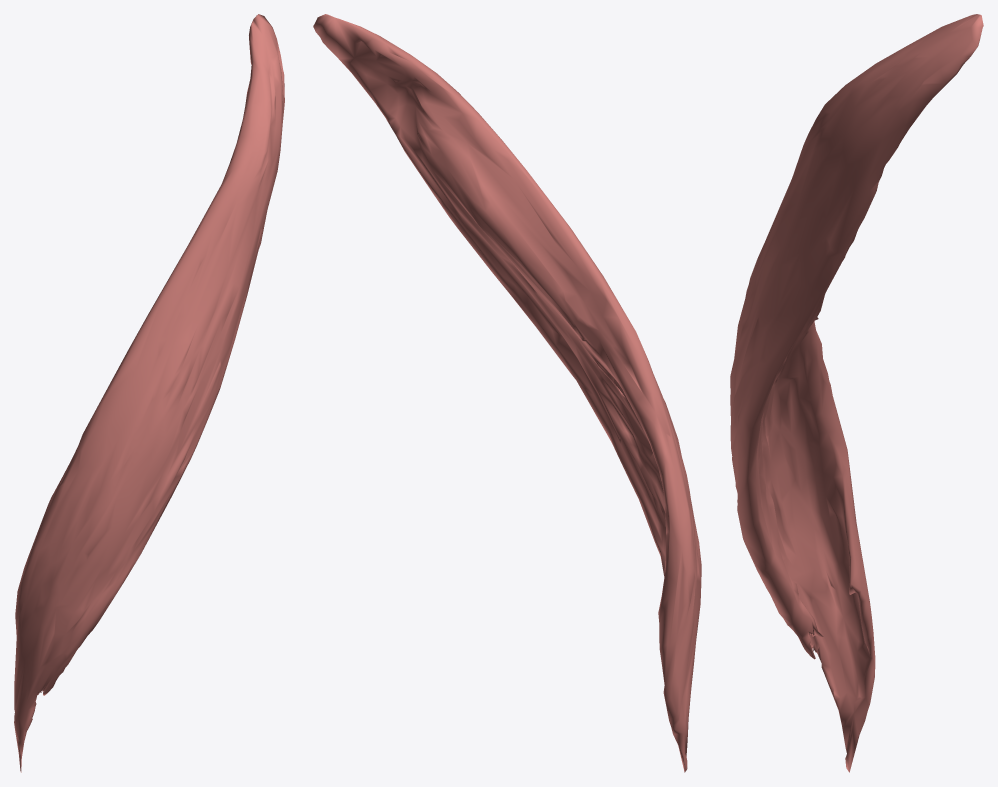
3 views of the same model, side by side, from view 1: azimuth 30°, elevation 25°; view 2: azimuth 150°, elevation 25°; view 3: azimuth 270°, elevation 25° (orthographic). The views are drawn at different scales.
Visible parts, largest first — view 1: ZA_8cbafea2128ea982; view 2: ZA_8cbafea2128ea982; view 3: ZA_8cbafea2128ea982.
Boxes of the visible parts, x1,y1,x2,y2 form: ZA_8cbafea2128ea982: (14, 14, 284, 772); ZA_8cbafea2128ea982: (313, 14, 701, 772); ZA_8cbafea2128ea982: (730, 14, 983, 772).
Bounding box in the file's own units: 0.0722 × 0.1506 × 0.0361.
